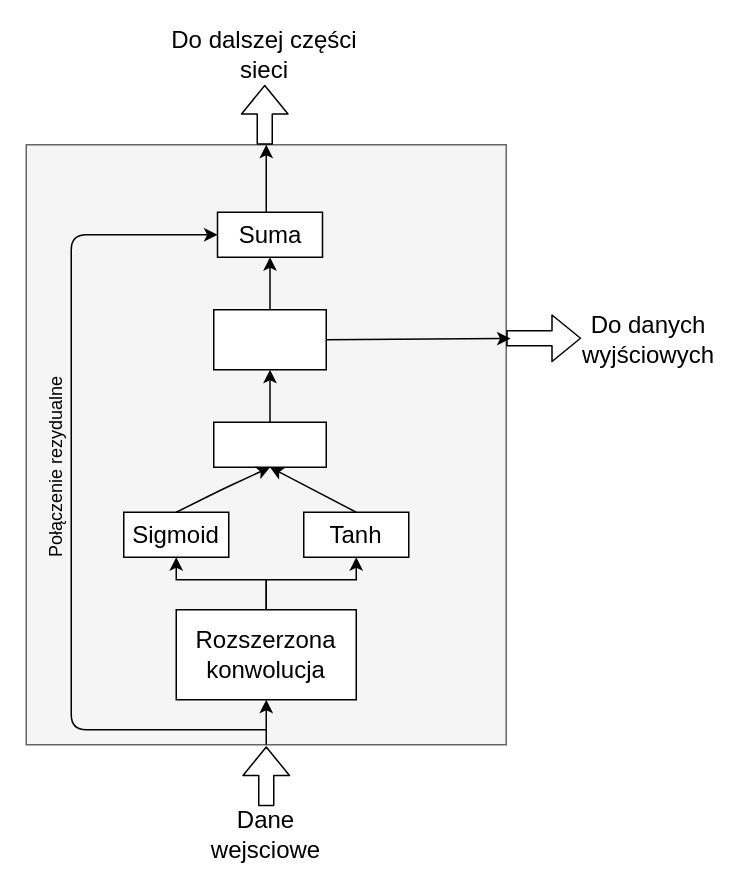
This 743x888 diagram has some shape labels left out. The shapes that lost their labels are listed below. From the top down, each one's centre as x and y in pixels, then its label:
At [269,339]: "Zmiana Kształtu".
At [269,444]: "Iloczyn".
